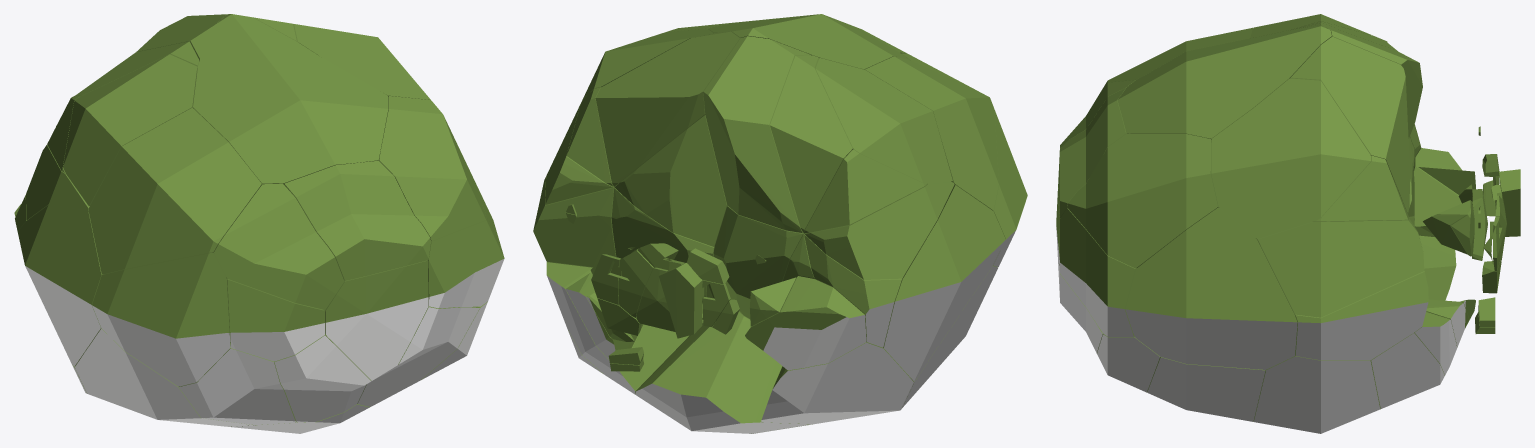
Rendered from explodedPig.fbx.
3 views of the same model, side by side, from view 1: azimuth 30°, elevation 25°; view 2: azimuth 150°, elevation 25°; view 3: azimuth 270°, elevation 25° (orthographic). The views are drawn at different scales.
Parts seen in each view (by area): view 1: Sphere.006_cell.035, Sphere.006_cell.096, Sphere.006_cell.091, Sphere.006_cell.013, Sphere.006_cell.098, Sphere.006_cell.033, Sphere.006_cell.030, Sphere.006_cell.079, Sphere.006_cell.094, Sphere.006_cell.070, Sphere.006_cell.076, Sphere.006_cell.067 (+10 smaller); view 2: Sphere.006_cell.065, Sphere.006_cell.079, Sphere.006_cell.097, Sphere.006_cell.077, Sphere.006_cell.033, Sphere.006_cell.040, Sphere.006_cell.047, Sphere.006_cell.096, Sphere.006_cell.022, Sphere.006_cell.024, Sphere.006_cell.048, Sphere.006_cell.026 (+24 smaller); view 3: Sphere.006_cell.015, Sphere.006_cell.078, Sphere.006_cell.030, Sphere.006_cell.035, Sphere.006_cell.042, Sphere.006_cell.077, Sphere.006_cell.081, Sphere.006_cell.089, Sphere.006_cell.055, Sphere.006_cell.069, Sphere.006_cell.013, Sphere.006_cell.012 (+18 smaller).
Boxes of the visible parts, <box> form: Sphere.006_cell.035: <box>193,14,388,184</box>; Sphere.006_cell.096: <box>88,107,261,274</box>; Sphere.006_cell.091: <box>92,253,230,386</box>; Sphere.006_cell.013: <box>284,160,430,280</box>; Sphere.006_cell.098: <box>214,183,344,309</box>; Sphere.006_cell.033: <box>63,54,197,205</box>; Sphere.006_cell.030: <box>378,96,486,241</box>; Sphere.006_cell.079: <box>17,205,102,366</box>; Sphere.006_cell.094: <box>324,260,428,380</box>; Sphere.006_cell.070: <box>75,328,255,426</box>; Sphere.006_cell.076: <box>179,343,296,424</box>; Sphere.006_cell.067: <box>226,277,324,361</box>; Sphere.006_cell.065: <box>703,36,810,232</box>; Sphere.006_cell.079: <box>884,185,1005,381</box>; Sphere.006_cell.097: <box>635,311,811,433</box>; Sphere.006_cell.077: <box>595,31,740,186</box>; Sphere.006_cell.033: <box>815,58,952,183</box>; Sphere.006_cell.040: <box>761,342,913,424</box>; Sphere.006_cell.047: <box>614,115,727,246</box>; Sphere.006_cell.096: <box>865,56,998,210</box>; Sphere.006_cell.022: <box>770,55,853,232</box>; Sphere.006_cell.024: <box>804,181,954,279</box>; Sphere.006_cell.048: <box>745,276,866,370</box>; Sphere.006_cell.026: <box>713,206,804,318</box>; Sphere.006_cell.015: <box>1125,207,1297,369</box>; Sphere.006_cell.078: <box>1211,78,1370,238</box>; Sphere.006_cell.030: <box>1067,133,1218,268</box>; Sphere.006_cell.035: <box>1117,25,1331,139</box>; Sphere.006_cell.042: <box>1256,218,1424,317</box>; Sphere.006_cell.077: <box>1290,36,1410,213</box>; Sphere.006_cell.081: <box>1253,356,1380,433</box>; Sphere.006_cell.089: <box>1293,271,1428,360</box>; Sphere.006_cell.055: <box>1059,208,1136,336</box>; Sphere.006_cell.069: <box>1147,357,1265,421</box>; Sphere.006_cell.013: <box>1058,88,1126,218</box>; Sphere.006_cell.012: <box>1370,333,1444,409</box>.
Bounding box in the file's own units: 1.71 × 1.59 × 1.7.
